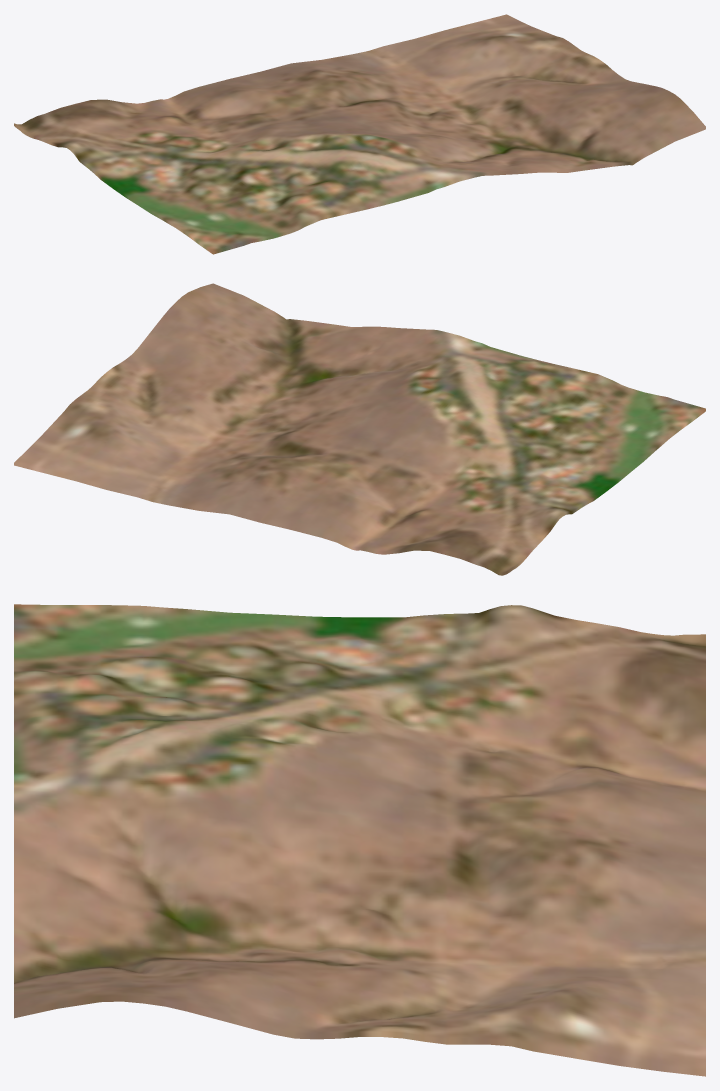
Rendered from terrain_r6_c2_lod1.glb.
3 views of the same model, one above another, from view 1: azimuth 30°, elevation 25°; view 2: azimuth 150°, elevation 25°; view 3: azimuth 270°, elevation 25° (orthographic). The views are drawn at different scales.
Visible parts, largest first — view 1: terrain_r6_c2_lod1; view 2: terrain_r6_c2_lod1; view 3: terrain_r6_c2_lod1.
Part boxes in pixels (bbox=[...]): terrain_r6_c2_lod1: bbox=[14, 14, 705, 254]; terrain_r6_c2_lod1: bbox=[14, 283, 705, 575]; terrain_r6_c2_lod1: bbox=[14, 604, 705, 1076].
Size of the model in its own units: 1125 by 112 by 787.
1 material, 1 textured.
